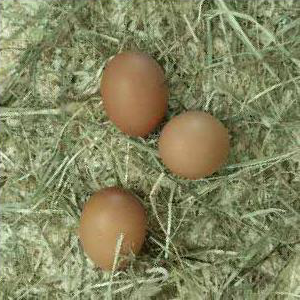egg: (100, 52, 170, 138), (79, 186, 147, 271), (158, 111, 231, 179)
